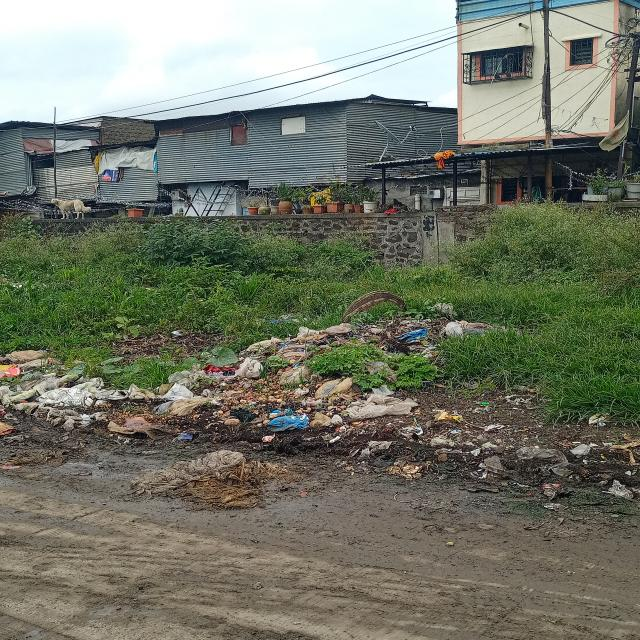garbage: (3, 317, 456, 458)
